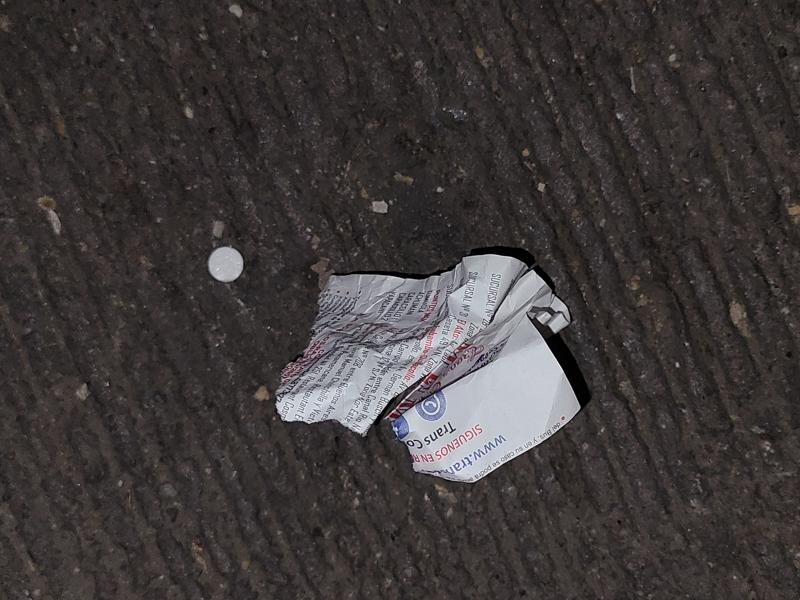papel: (275, 248, 590, 484)
